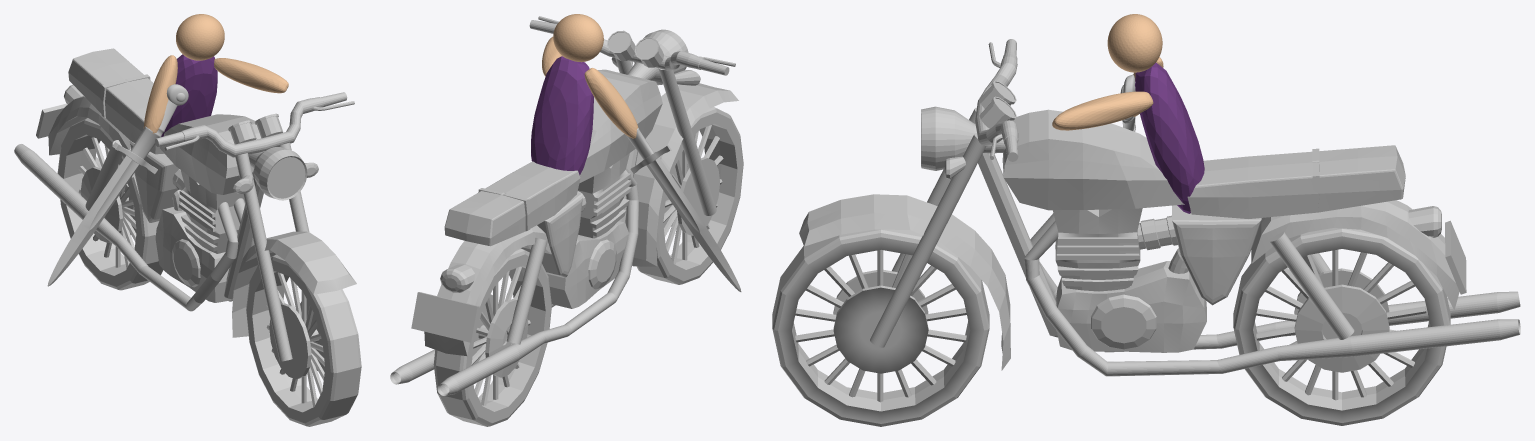
File: bossbik.obj
3 views of the same model, side by side, from view 1: azimuth 30°, elevation 25°; view 2: azimuth 150°, elevation 25°; view 3: azimuth 270°, elevation 25° (orthographic). The views are drawn at different scales.
Parts seen in each view (by area): view 1: Front_wheel_Cylinder.001, Rear_wheel_Cylinder.001, Seat_Cube.002, Exhaust_left_Cylinder.001, Front_water_Cube.001, Dagger, Gas_Tank_Cube.001, Engine_1_Cube.001, Front_bumper_left_Cylinder.001, Steering_Cylinder.001, Engine_2_Cube.001, 立方体.005 (+16 smaller); view 2: Rear_wheel_Cylinder.001, Front_wheel_Cylinder.001, Seat_Cube.002, 立方体.005, Front_water_Cube.001, Exhaust_left_Cylinder.001, Gas_Tank_Cube.001, Rear_water_Cube.001, Engine_1_Cube.001, Dagger, Engine_2_Cube.001, Licence_plate_Cube.001 (+15 smaller); view 3: Front_wheel_Cylinder.001, Rear_wheel_Cylinder.001, Gas_Tank_Cube.001, Seat_Cube.002, Exhaust_right_Cylinder.001, Front_water_Cube.001, Engine_2_Cube.001, Engine_1_Cube.001, Rear_water_Cube.001, 立方体.005, Engine_3_Cube.001, Front_wheel_inside_Cylinder.001 (+14 smaller).
Boxes of the visible parts, bbox=[...] form: Front_wheel_Cylinder.001: bbox=[246, 254, 361, 426]; Rear_wheel_Cylinder.001: bbox=[57, 118, 163, 290]; Seat_Cube.002: bbox=[68, 48, 163, 154]; Exhaust_left_Cylinder.001: bbox=[14, 144, 238, 311]; Front_water_Cube.001: bbox=[232, 231, 356, 337]; Dagger: bbox=[47, 84, 188, 286]; Gas_Tank_Cube.001: bbox=[160, 114, 261, 194]; Engine_1_Cube.001: bbox=[179, 170, 245, 253]; Front_bumper_left_Cylinder.001: bbox=[235, 153, 292, 361]; Steering_Cylinder.001: bbox=[155, 92, 347, 157]; Engine_2_Cube.001: bbox=[155, 207, 232, 302]; 立方体.005: bbox=[161, 54, 217, 136]; Rear_wheel_Cylinder.001: bbox=[433, 248, 551, 426]; Front_wheel_Cylinder.001: bbox=[636, 107, 743, 284]; Seat_Cube.002: bbox=[444, 161, 580, 246]; 立方体.005: bbox=[531, 56, 593, 175]; Front_water_Cube.001: bbox=[625, 83, 738, 266]; Exhaust_left_Cylinder.001: bbox=[437, 168, 638, 395]; Gas_Tank_Cube.001: bbox=[579, 69, 662, 183]; Rear_water_Cube.001: bbox=[424, 225, 551, 355]; Engine_1_Cube.001: bbox=[578, 153, 631, 238]; Dagger: bbox=[626, 128, 741, 291]; Engine_2_Cube.001: bbox=[547, 221, 628, 308]; Licence_plate_Cube.001: bbox=[411, 292, 479, 342]; Front_wheel_Cylinder.001: bbox=[772, 229, 989, 426]; Rear_wheel_Cylinder.001: bbox=[1233, 228, 1450, 425]; Gas_Tank_Cube.001: bbox=[1002, 109, 1184, 210]; Seat_Cube.002: bbox=[1187, 145, 1405, 218]; Exhaust_right_Cylinder.001: bbox=[1024, 221, 1520, 376]; Front_water_Cube.001: bbox=[799, 194, 1010, 370]; Engine_2_Cube.001: bbox=[1055, 261, 1206, 352]; Engine_1_Cube.001: bbox=[1053, 208, 1142, 291]; Rear_water_Cube.001: bbox=[1251, 200, 1459, 309]; 立方体.005: bbox=[1135, 62, 1204, 213]; Engine_3_Cube.001: bbox=[1172, 205, 1261, 305]; Front_wheel_inside_Cylinder.001: bbox=[795, 250, 966, 402].
Bounding box in the file's own units: 3.77 × 4.69 × 7.9.
